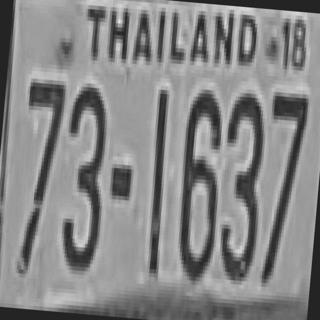N01: (144, 87, 170, 252)
N03: (55, 84, 111, 270), (213, 88, 267, 278)
N06: (171, 88, 225, 278)
N07: (256, 90, 308, 279), (13, 78, 64, 264), (15, 76, 64, 238), (17, 78, 64, 213), (18, 78, 64, 198)
